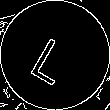L_NE: (29, 26, 81, 84)
